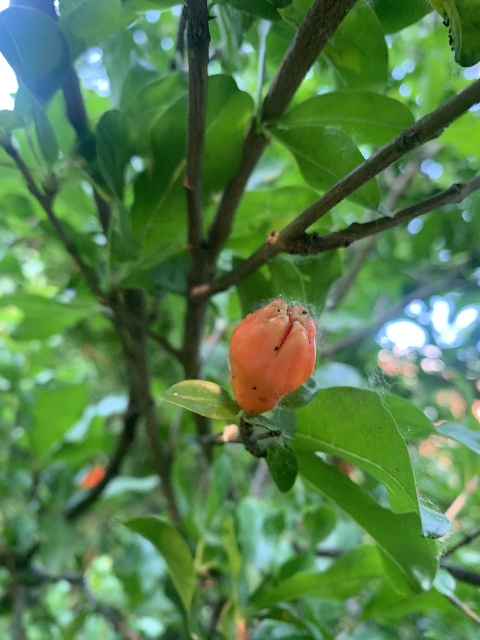bud: (228, 299, 315, 417)
